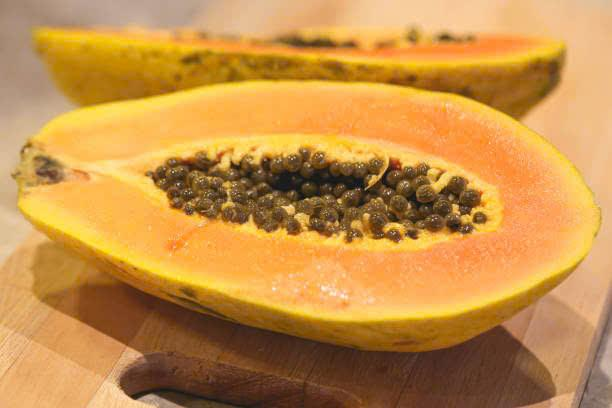papaya: (11, 73, 612, 346)
